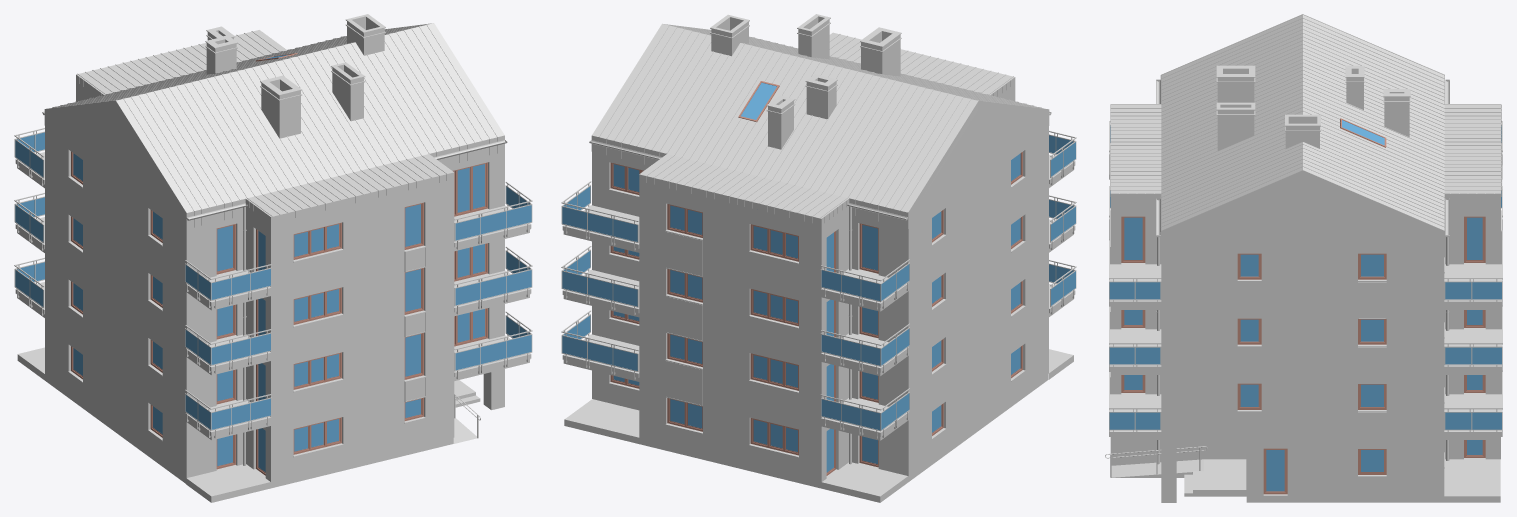
File: edificio5.fbx
3 views of the same model, side by side, from view 1: azimuth 30°, elevation 25°; view 2: azimuth 150°, elevation 25°; view 3: azimuth 270°, elevation 25° (orthographic).
Visible parts, largest first — view 1: building_walls, roof, foundation_wall, window.005, barrels, chimney, balcony, metal_cover, terrace, boards, eneter_floor, gutters.003; view 2: building_walls, roof, foundation_wall, window.005, barrels, chimney, balcony, terrace, boards.001, metal_cover, window_roof, gutters.003; view 3: building_walls, roof, foundation_wall, window.005, barrels, balcony, chimney, boards.001, eneter_floor, terrace, metal_cover, roof_plate (+3 smaller).
Part boxes in pixels (x1=…): building_walls: x1=45, y1=81, x2=504, y2=417; roof: x1=44, y1=23, x2=504, y2=229; foundation_wall: x1=45, y1=310, x2=454, y2=488; window.005: x1=68, y1=151, x2=487, y2=475; barrels: x1=14, y1=128, x2=532, y2=438; chimney: x1=205, y1=14, x2=385, y2=138; balcony: x1=17, y1=152, x2=529, y2=440; metal_cover: x1=15, y1=152, x2=531, y2=436; terrace: x1=17, y1=347, x2=270, y2=502; boards: x1=404, y1=246, x2=426, y2=402; eneter_floor: x1=453, y1=380, x2=480, y2=443; gutters.003: x1=42, y1=111, x2=507, y2=220; building_walls: x1=592, y1=84, x2=1048, y2=417; roof: x1=591, y1=23, x2=1049, y2=228; foundation_wall: x1=592, y1=309, x2=1048, y2=488; window.005: x1=609, y1=152, x2=1025, y2=475; barrels: x1=561, y1=130, x2=1076, y2=438; chimney: x1=710, y1=14, x2=901, y2=149; balcony: x1=563, y1=155, x2=1073, y2=440; terrace: x1=564, y1=349, x2=1073, y2=502; boards.001: x1=665, y1=232, x2=702, y2=406; metal_cover: x1=562, y1=155, x2=1075, y2=436; window_roof: x1=738, y1=81, x2=779, y2=121; gutters.003: x1=589, y1=111, x2=1051, y2=220; building_walls: x1=1110, y1=179, x2=1500, y2=502; roof: x1=1110, y1=14, x2=1501, y2=246; foundation_wall: x1=1110, y1=431, x2=1500, y2=502; window.005: x1=1110, y1=165, x2=1502, y2=496; barrels: x1=1109, y1=121, x2=1502, y2=438; balcony: x1=1110, y1=263, x2=1500, y2=439; chimney: x1=1216, y1=65, x2=1410, y2=151; boards.001: x1=1358, y1=213, x2=1501, y2=448; eneter_floor: x1=1111, y1=459, x2=1246, y2=496; terrace: x1=1444, y1=458, x2=1500, y2=502; metal_cover: x1=1109, y1=145, x2=1501, y2=436; roof_plate: x1=1110, y1=193, x2=1500, y2=200.
Bounding box in the file's own units: 1555 × 1611 × 1663.
